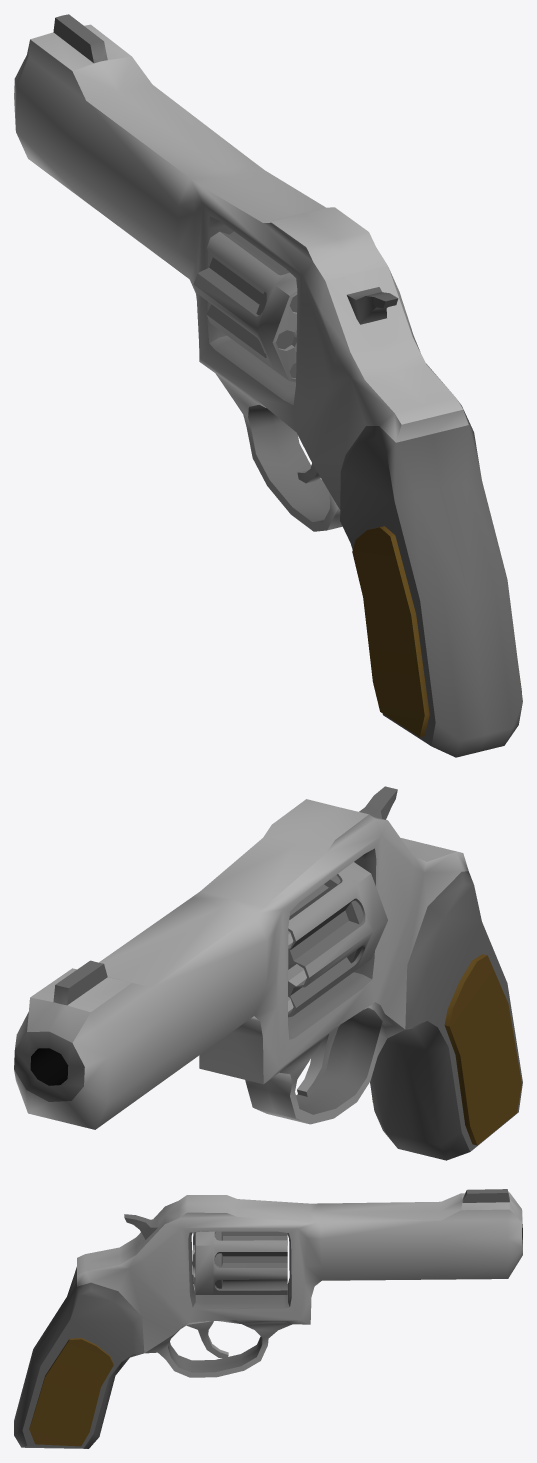
Rendered from wpn_revolver.glb.
3 renders of one model, top to bottom at view 1: azimuth 30°, elevation 25°; view 2: azimuth 150°, elevation 25°; view 3: azimuth 270°, elevation 25°, orthographic. The views are drawn at different scales.
Visible parts, largest first — view 1: wpn_revolver; view 2: wpn_revolver; view 3: wpn_revolver.
Boxes of the visible parts, x1=… form: wpn_revolver: x1=14, y1=14, x2=522, y2=757; wpn_revolver: x1=14, y1=786, x2=522, y2=1160; wpn_revolver: x1=14, y1=1189, x2=522, y2=1448.
Size of the model in its own units: 0.0458 by 0.1633 by 0.3.
1 material, 1 textured.
